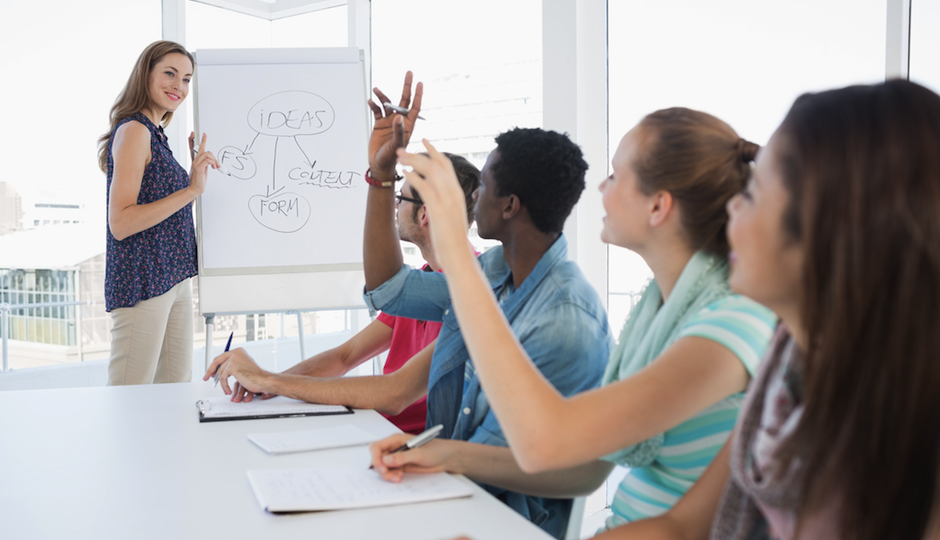Person: (369, 107, 780, 540), (366, 71, 613, 540), (104, 40, 222, 387)
